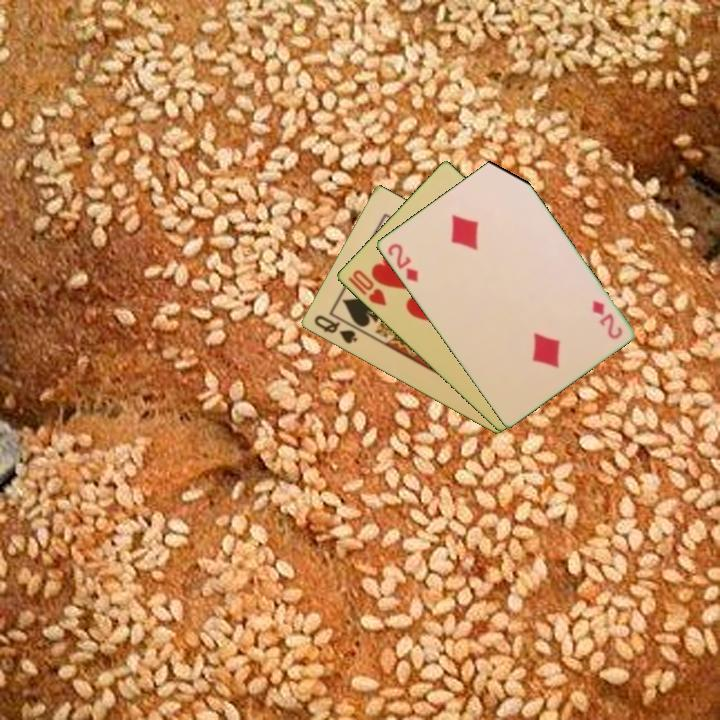10h: (348, 266, 389, 309)
2d: (588, 296, 625, 342), (384, 240, 421, 285)
Qs: (310, 312, 360, 347)
